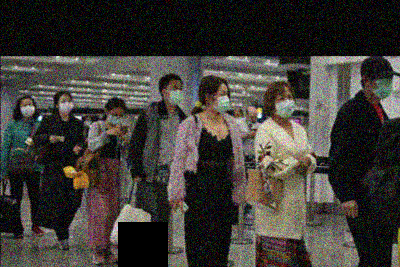mask_weared_incorrect: (248, 115, 259, 126)
with_mask: (274, 93, 296, 118), (370, 78, 394, 100), (212, 90, 230, 114), (165, 84, 184, 105), (58, 98, 73, 113), (19, 103, 35, 117), (108, 112, 125, 125), (85, 119, 93, 127)
